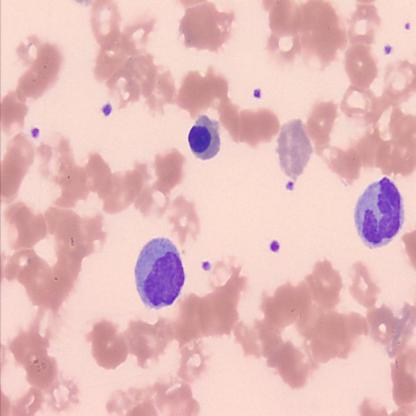NRC: (187, 113, 221, 161)
